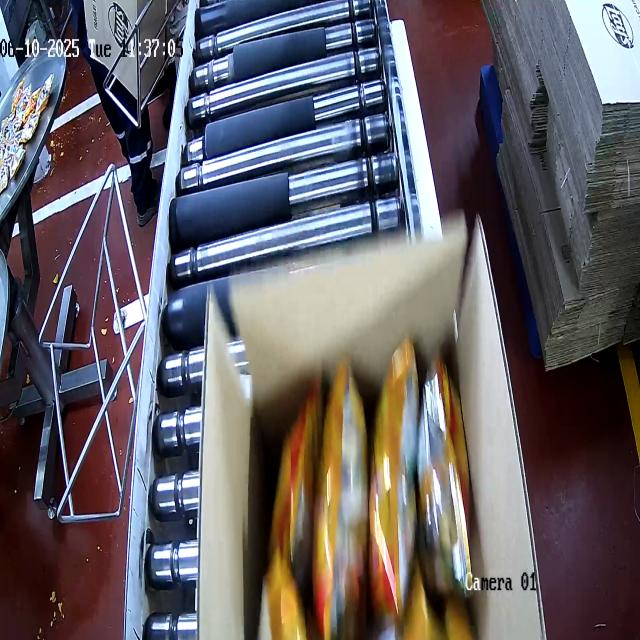FRENCH_CHEESE: (263, 346, 482, 640)
